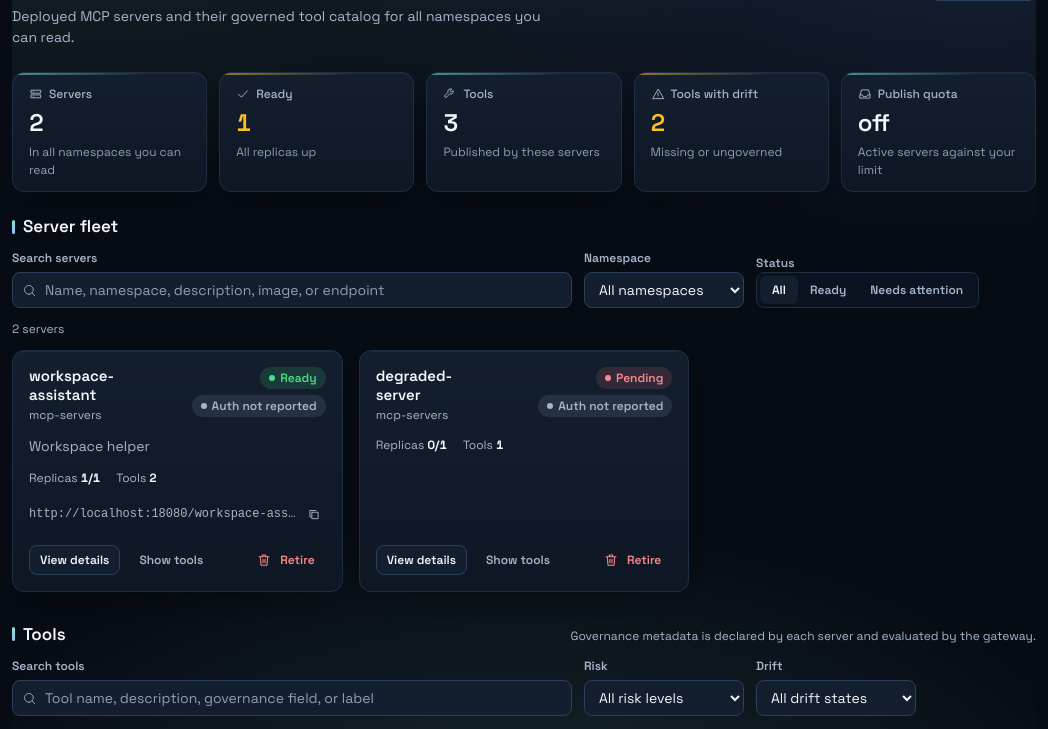
it: ServersWorkspace › filters the rendered tool rows by search term
Expected: the list with test id "server-list" is shown, [12,350,689,592]
Type "purge" into the search field with test id "tool-search" at (292, 698), box [12,680,572,716]
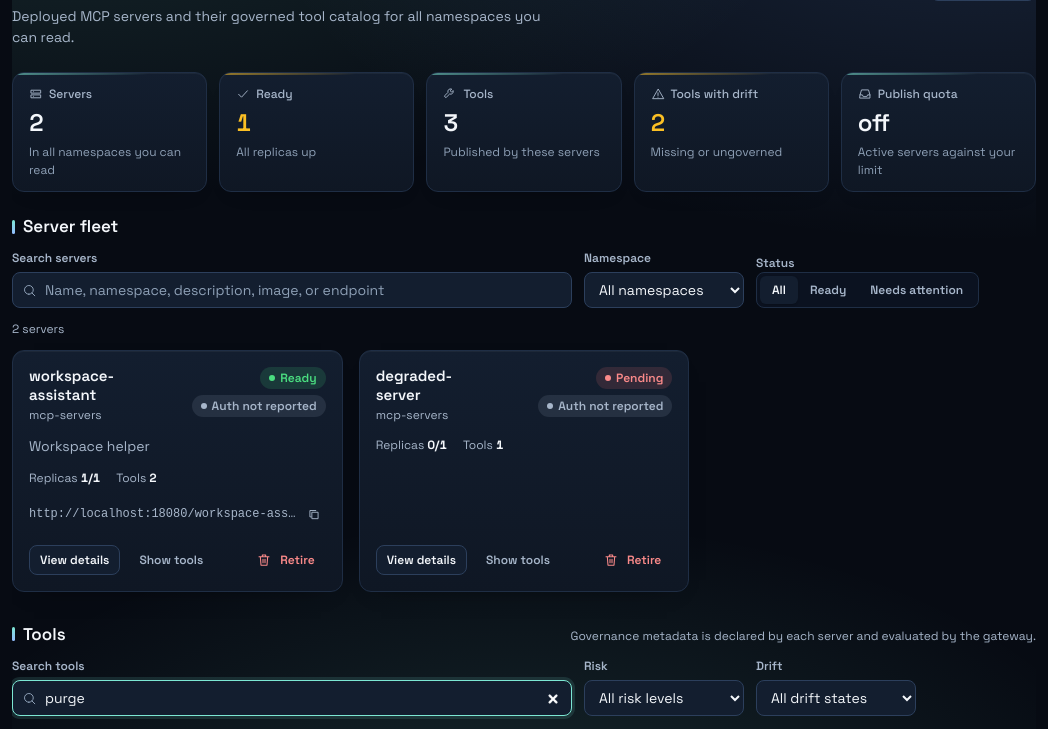
Replace the text in the search field with test id "tool-search" with "zzz-no-match" at (292, 698), box [12,680,572,716]
(page scrolled)
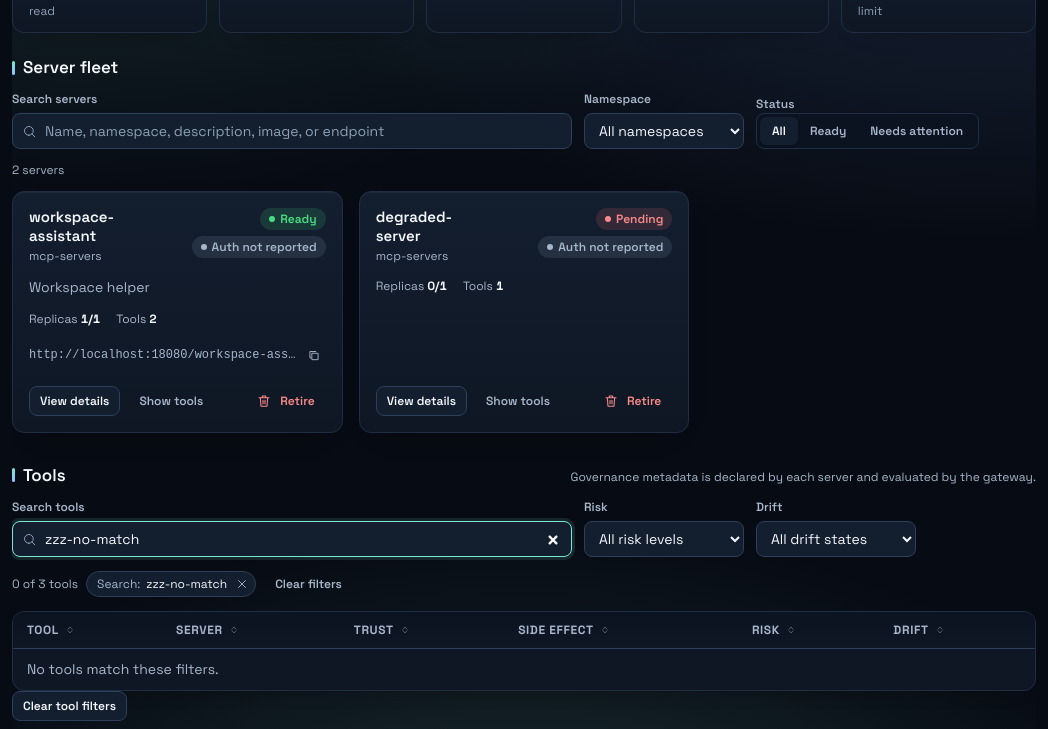
Expected: the cell with test id "tool-table-empty" reads "No tools match these filters.", [27,660,219,678]
